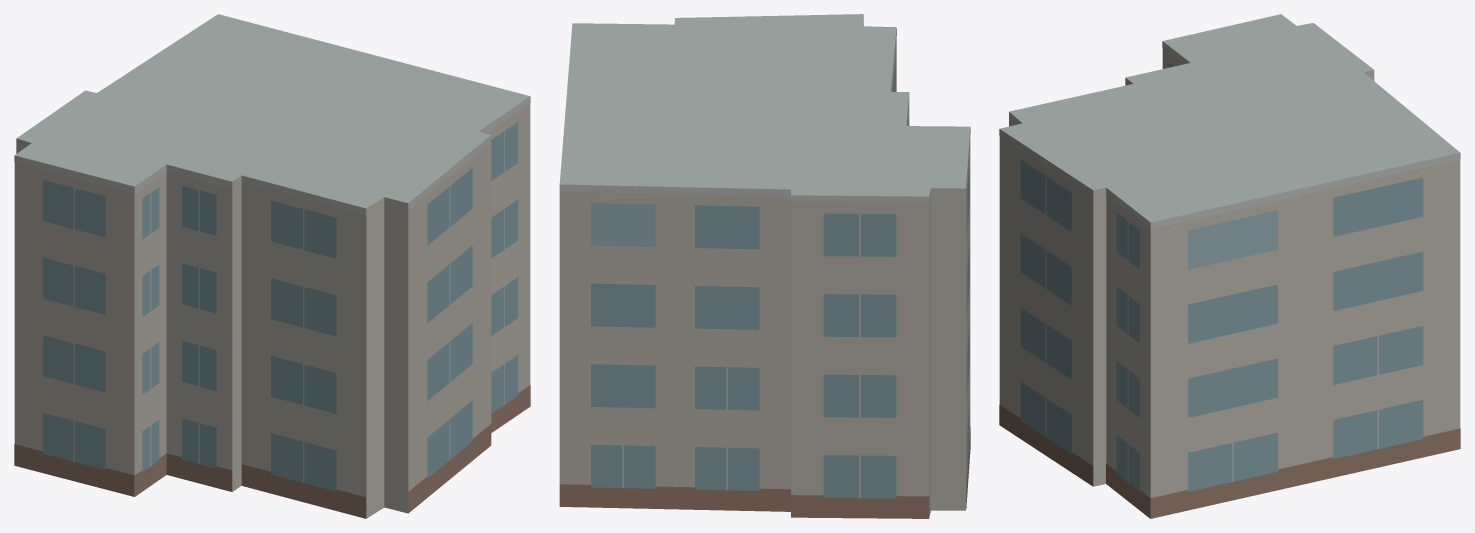
File: survey-upis-32657600.glb
3 views of the same model, side by side, from view 1: azimuth 30°, elevation 25°; view 2: azimuth 150°, elevation 25°; view 3: azimuth 270°, elevation 25° (orthographic). The views are drawn at different scales.
Parts seen in each view (by area): view 1: survey-upis-32657600.tmp; view 2: survey-upis-32657600.tmp; view 3: survey-upis-32657600.tmp.
Boxes of the visible parts, x1,y1,x2,y2 form: survey-upis-32657600.tmp: (14,14,530,518); survey-upis-32657600.tmp: (559,14,970,518); survey-upis-32657600.tmp: (999,14,1460,518).
Size of the model in its own units: 16.08 by 10.65 by 15.02.
